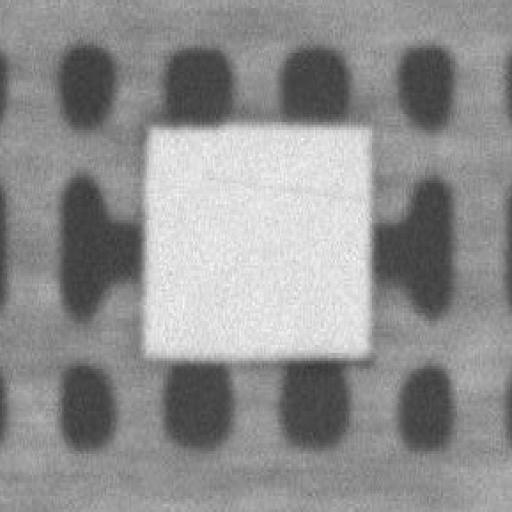DIE_CRACK: (308, 117, 512, 130)
